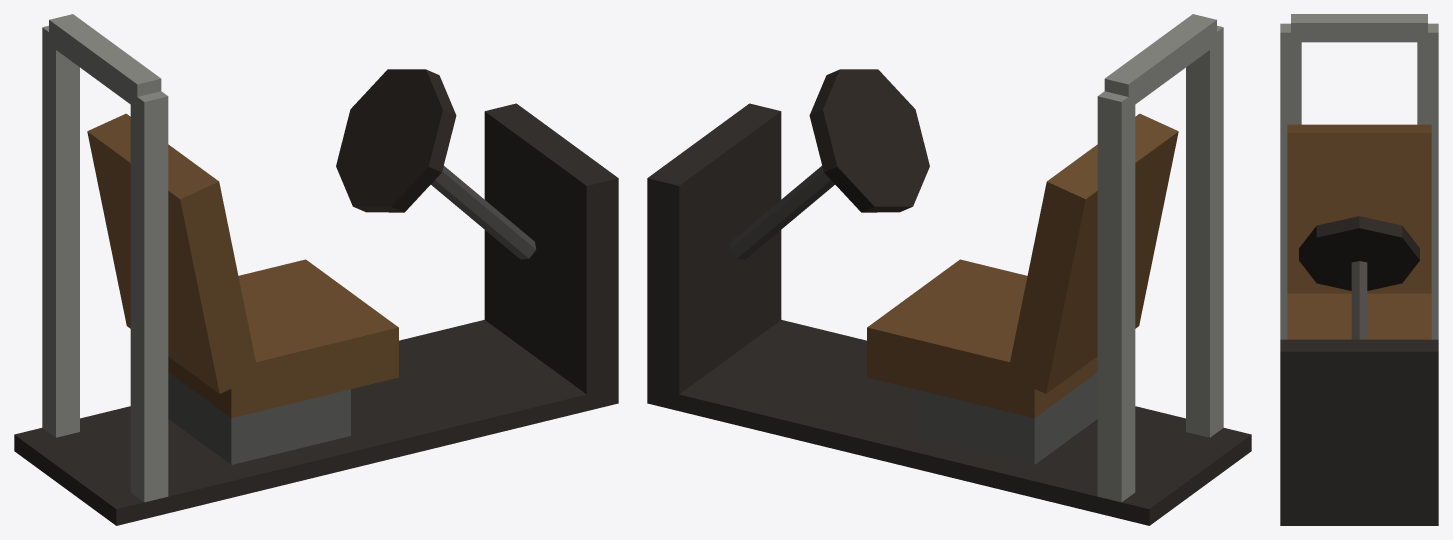
File: cab_seat.glb
3 views of the same model, side by side, from view 1: azimuth 30°, elevation 25°; view 2: azimuth 150°, elevation 25°; view 3: azimuth 270°, elevation 25° (orthographic). The views are drawn at different scales.
Parts seen in each view (by area): view 1: cab_seat; view 2: cab_seat; view 3: cab_seat.
Part boxes in pixels (<box>): cab_seat: <box>14,14,618,525</box>; cab_seat: <box>647,14,1251,525</box>; cab_seat: <box>1280,14,1438,525</box>.
Bounding box in the file's own units: 1.26 × 1.03 × 0.444.
